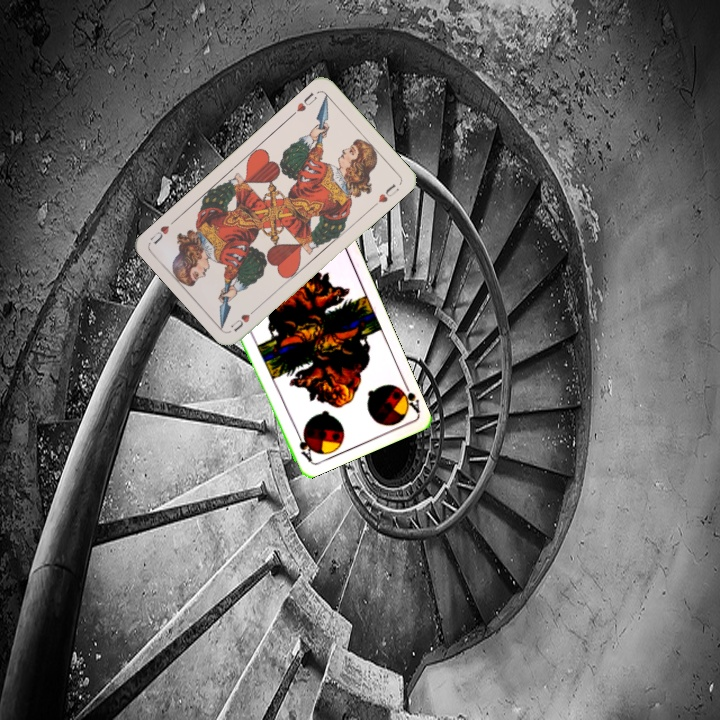HU: (227, 303, 261, 334), (288, 88, 320, 119)
SA: (392, 376, 423, 415)
